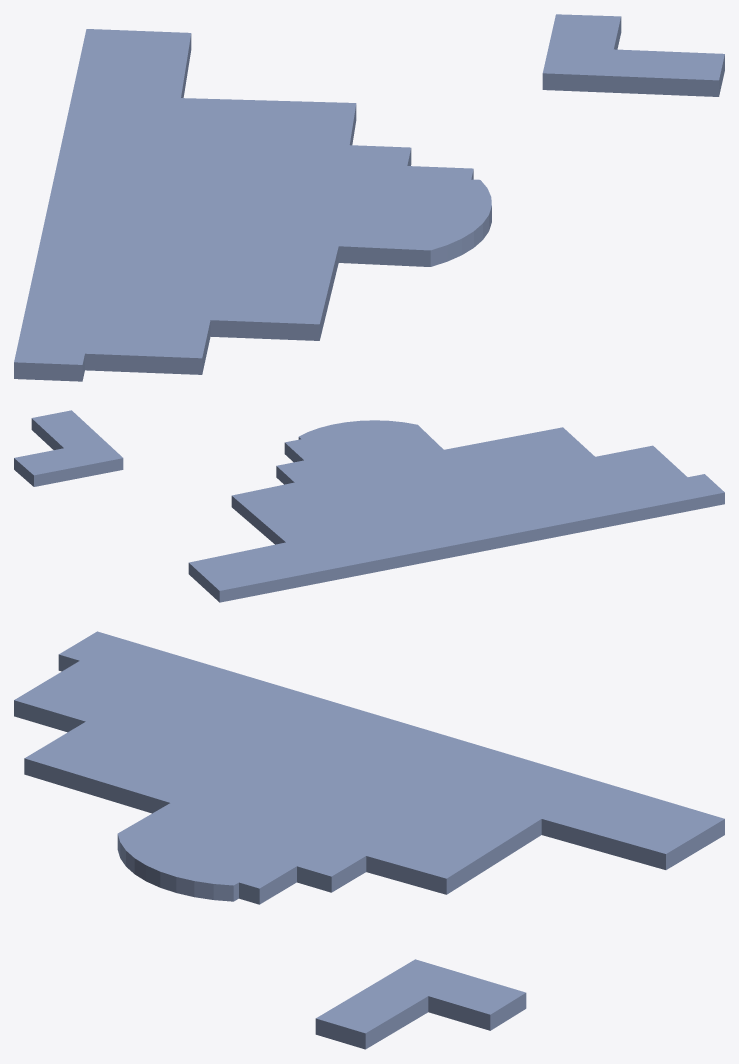
The model's file is FaulknerFloor1.gltf.
3 views of the same model, one above another, from view 1: azimuth 30°, elevation 25°; view 2: azimuth 150°, elevation 25°; view 3: azimuth 270°, elevation 25° (orthographic). The views are drawn at different scales.
Size of the model in its own units: 213 by 4 by 159.
